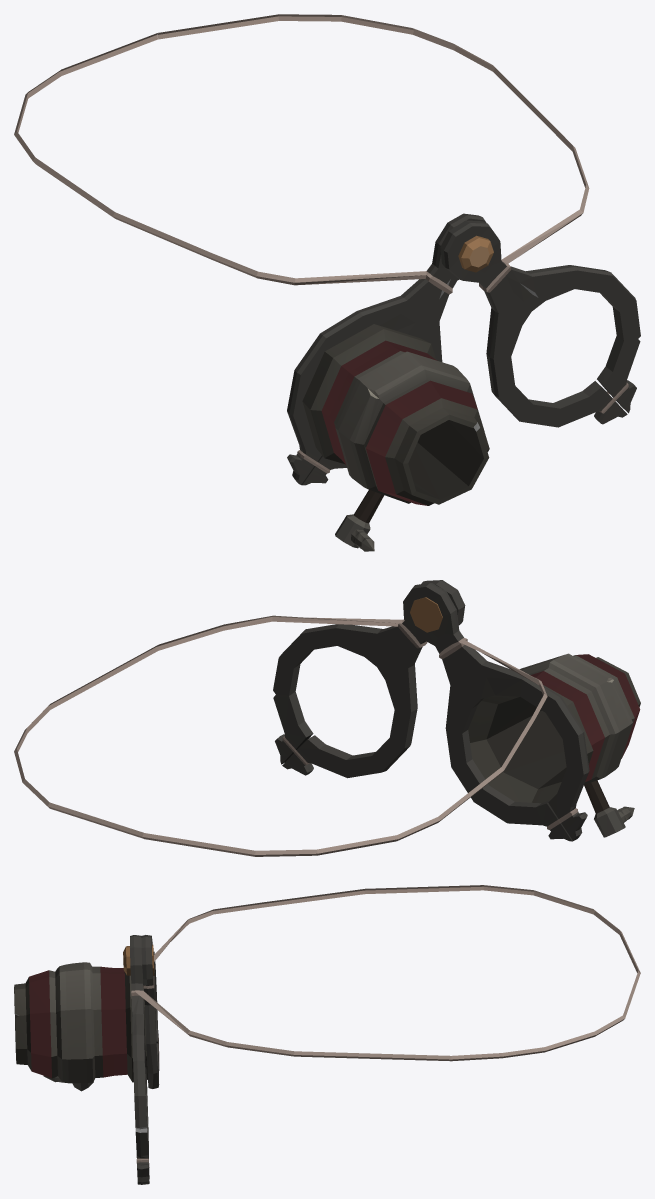
File: venetianSpectaclesTacticalFemale.glb
3 renders of one model, top to bottom at view 1: azimuth 30°, elevation 25°; view 2: azimuth 150°, elevation 25°; view 3: azimuth 270°, elevation 25°, orthographic. The views are drawn at different scales.
Visible parts, largest first — view 1: venetianSpectaclesTactical; view 2: venetianSpectaclesTactical; view 3: venetianSpectaclesTactical.
Boxes of the visible parts, bbox=[...] form: venetianSpectaclesTactical: bbox=[14, 14, 640, 551]; venetianSpectaclesTactical: bbox=[14, 580, 640, 856]; venetianSpectaclesTactical: bbox=[14, 885, 640, 1184].
Bounding box in the file's own units: 0.2144 × 0.123 × 0.3288.
